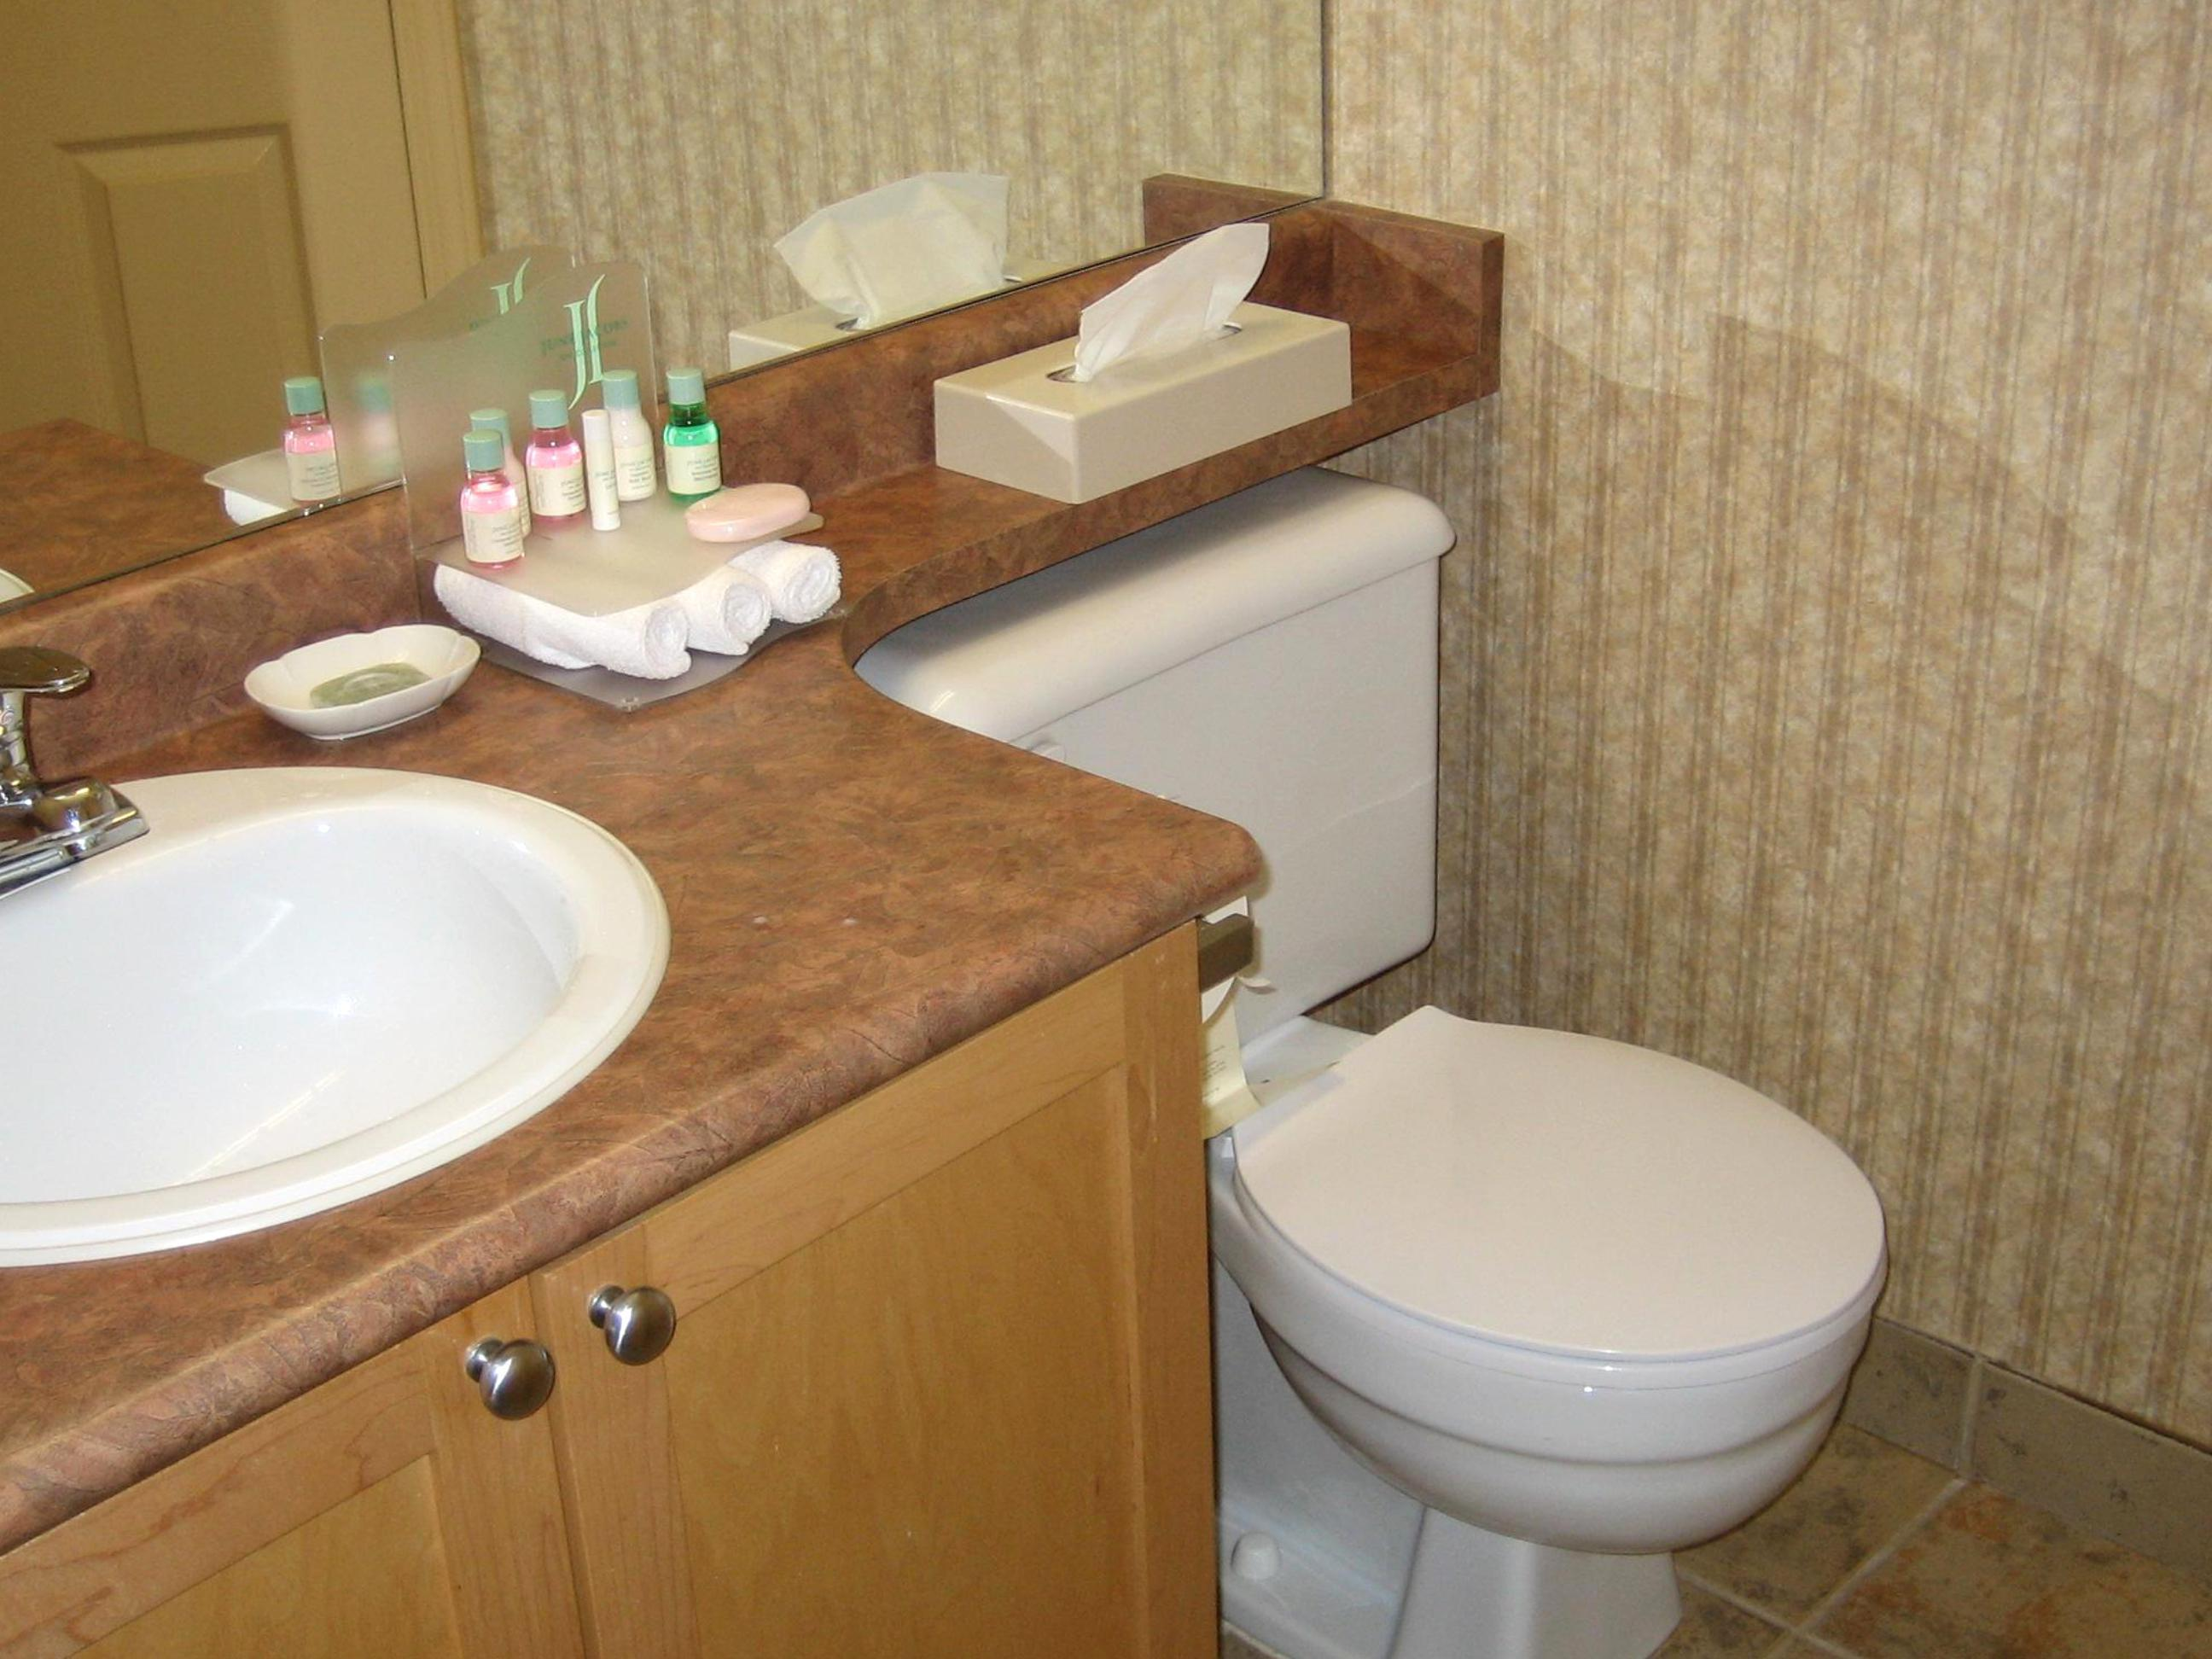Armario: (0, 716, 1223, 1659)
Lavamanos: (0, 660, 712, 1284)
Sanitario: (864, 565, 1898, 1659)
